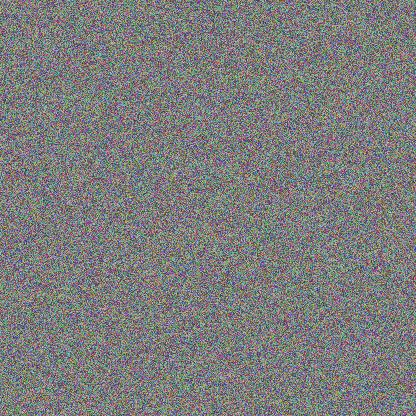occupied: (78, 225, 192, 280)
